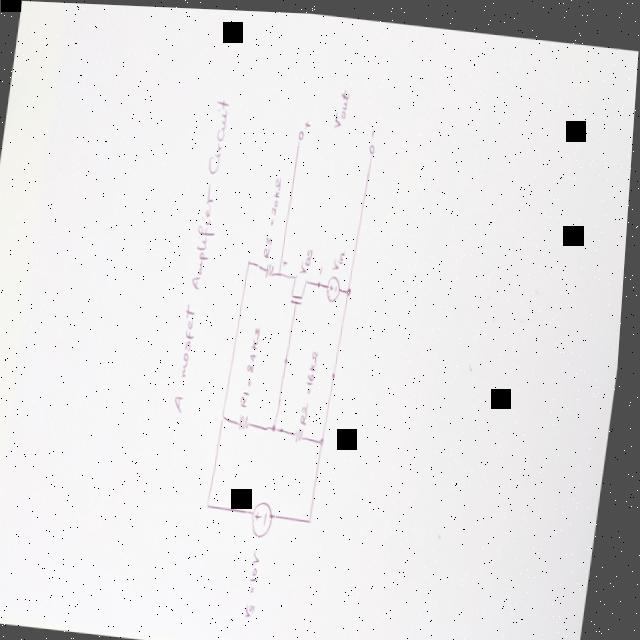junction: (276, 419, 284, 429), (348, 283, 355, 293), (323, 433, 330, 443), (313, 512, 319, 521), (225, 410, 231, 419), (211, 499, 216, 506), (250, 255, 254, 262), (280, 267, 284, 273)
resistor: (242, 409, 256, 429), (268, 258, 281, 277), (298, 423, 312, 440)
source: (254, 496, 282, 536), (328, 271, 346, 300)
terminal: (369, 138, 377, 152), (298, 126, 306, 138)
text: (176, 93, 234, 413), (244, 322, 265, 407), (265, 172, 284, 257), (304, 346, 322, 422), (251, 544, 270, 616), (334, 83, 351, 127), (301, 244, 316, 271), (334, 244, 349, 268), (284, 254, 292, 265), (304, 116, 312, 126), (321, 260, 327, 272), (372, 122, 377, 134)
transistor: (292, 270, 311, 302)
